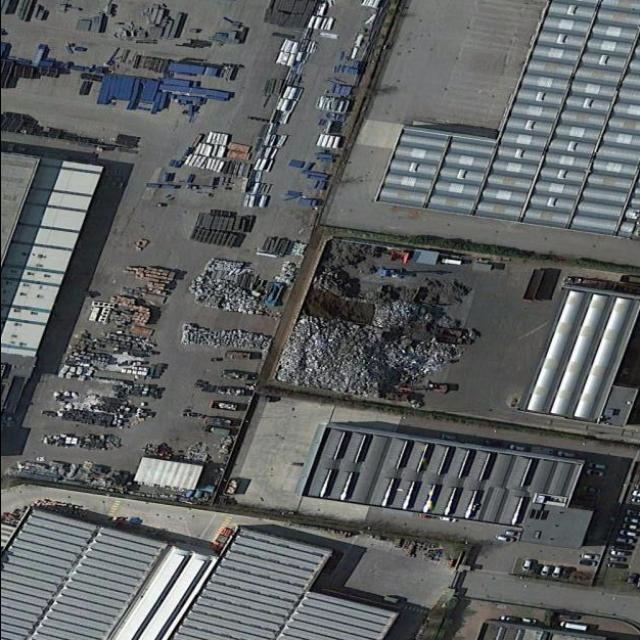dump_site: (273, 313, 464, 408)
